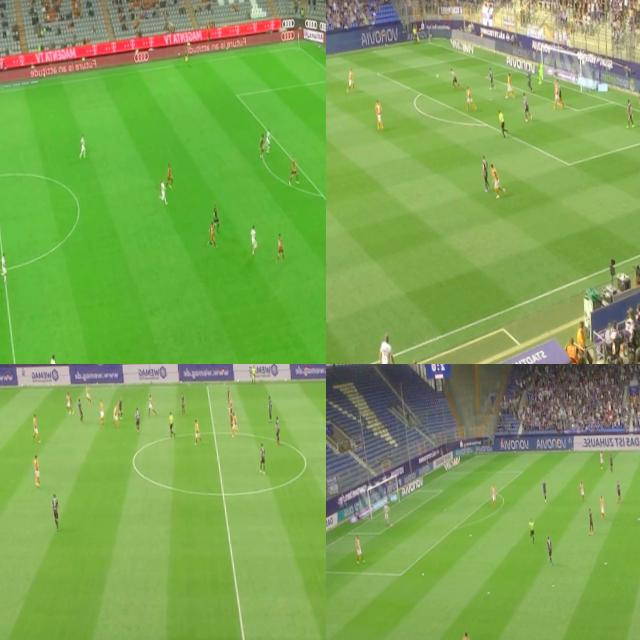ball: (434, 72, 440, 80), (636, 516, 638, 522), (486, 589, 488, 595), (422, 570, 424, 576), (390, 521, 392, 526), (604, 561, 606, 565), (551, 582, 553, 586), (469, 532, 471, 536)
player: (479, 153, 492, 194), (491, 162, 505, 198), (463, 84, 478, 113), (50, 492, 60, 532), (289, 154, 301, 187), (520, 92, 532, 124), (552, 78, 564, 109), (502, 70, 514, 100), (624, 98, 635, 130), (374, 98, 384, 132), (344, 67, 356, 94), (449, 67, 462, 91), (354, 533, 364, 563), (192, 418, 202, 447), (552, 80, 562, 108), (258, 442, 266, 476), (32, 453, 40, 487), (164, 158, 173, 188), (275, 230, 284, 260), (146, 392, 156, 419), (30, 412, 39, 442), (76, 131, 86, 157), (208, 222, 218, 248), (249, 224, 258, 252), (258, 129, 266, 159), (486, 66, 496, 90), (265, 125, 273, 154), (45, 349, 60, 364), (272, 416, 280, 444), (111, 402, 119, 430), (545, 536, 553, 564), (230, 411, 238, 438), (115, 396, 124, 420), (0, 247, 7, 277), (157, 176, 165, 202), (526, 68, 534, 94), (64, 390, 72, 416), (536, 60, 544, 84), (634, 88, 640, 120), (224, 385, 232, 409), (598, 496, 606, 519), (227, 396, 233, 426), (77, 398, 84, 423), (98, 398, 104, 426), (134, 406, 140, 433), (266, 394, 272, 420), (586, 507, 592, 533), (180, 392, 186, 416), (615, 481, 621, 503), (383, 504, 389, 526), (84, 384, 90, 404), (459, 630, 471, 640), (490, 484, 496, 504), (598, 448, 604, 468), (579, 481, 584, 500), (608, 454, 613, 472), (542, 480, 546, 500)
